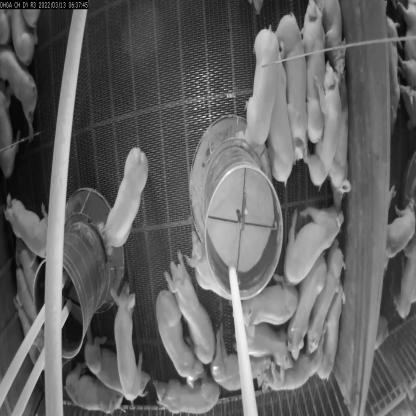Pig: (164, 240, 222, 366), (277, 194, 348, 284), (99, 142, 152, 261), (270, 11, 308, 160), (135, 356, 225, 416), (106, 282, 147, 400), (215, 336, 276, 410), (240, 32, 273, 158), (262, 32, 289, 179), (311, 55, 339, 194), (154, 298, 199, 381), (77, 336, 129, 400), (54, 367, 116, 415), (0, 197, 47, 259), (242, 286, 304, 329), (293, 260, 320, 350), (243, 330, 291, 364)
